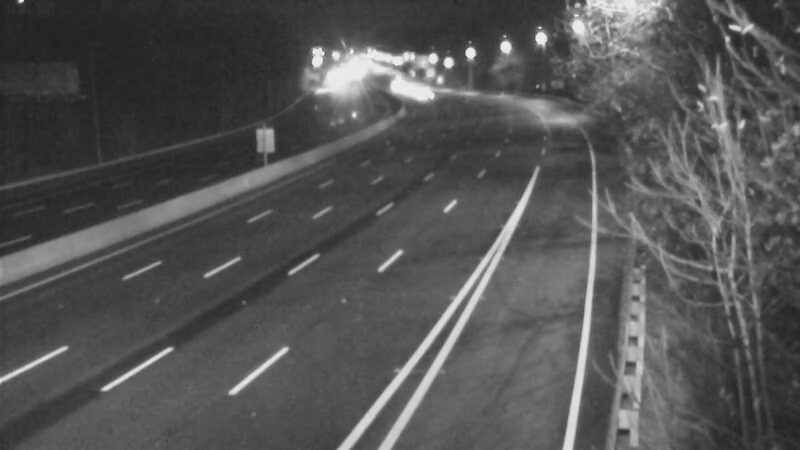vehicle: (367, 59, 417, 109), (398, 70, 448, 120)
